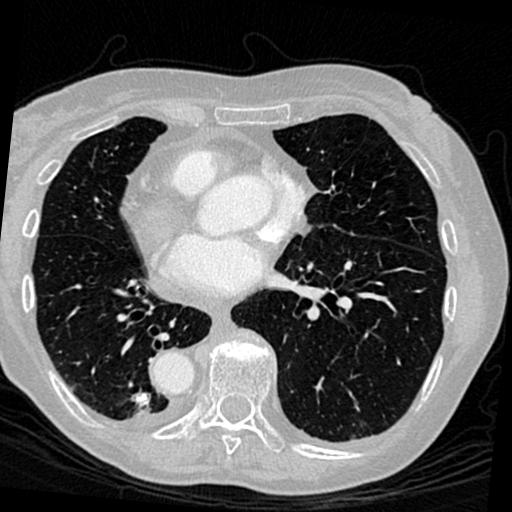nodule: (134, 390, 155, 411)
